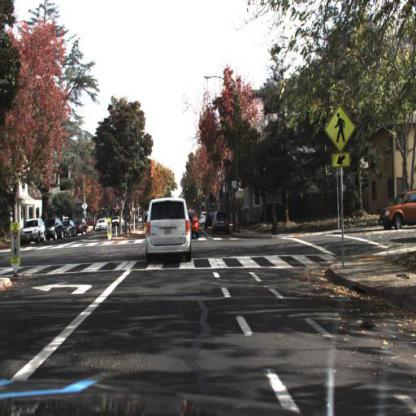car: (145, 197, 195, 263), (378, 188, 416, 235), (19, 216, 45, 245), (43, 216, 66, 243), (184, 207, 202, 241), (211, 208, 231, 236), (260, 201, 283, 224), (60, 217, 78, 239), (72, 218, 88, 237), (94, 218, 110, 232)
pedestrian: (271, 202, 279, 237)
